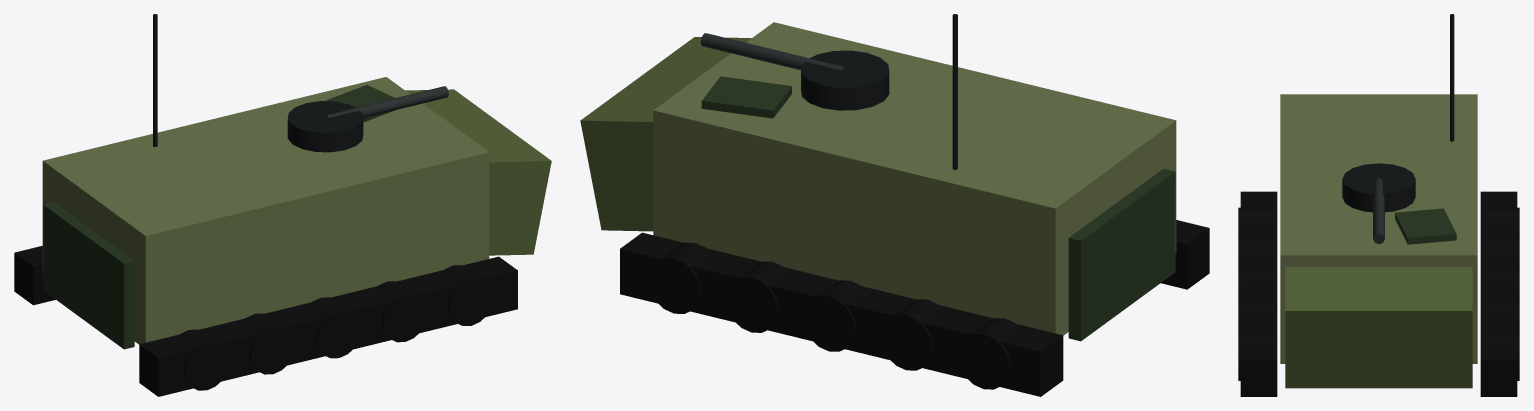
File: m113-apc.glb
3 views of the same model, side by side, from view 1: azimuth 30°, elevation 25°; view 2: azimuth 150°, elevation 25°; view 3: azimuth 270°, elevation 25° (orthographic). The views are drawn at different scales.
Visible parts, largest first — view 1: hull, trackLeft, rearRamp, frontSlope, commanderRing, roadWheelLeft2, roadWheelLeft1, roadWheelLeft3, roadWheelLeft4, roadWheelLeft5, trackRight, turretGun (+2 smaller); view 2: hull, trackRight, rearRamp, frontSlope, commanderRing, roadWheelRight2, roadWheelRight3, roadWheelRight4, roadWheelRight1, roadWheelRight5, hatchDriver, trackLeft (+2 smaller); view 3: hull, frontSlope, trackLeft, trackRight, commanderRing, hatchDriver, turretGun, antenna, roadWheelLeft5, roadWheelRight5, roadWheelLeft1, roadWheelRight1 (+6 smaller).
Part boxes in pixels (left/top/right/bottom): hull: left=42, top=77, right=489, bottom=344; trackLeft: left=139, top=256, right=517, bottom=396; rearRamp: left=43, top=202, right=134, bottom=349; frontSlope: left=405, top=89, right=551, bottom=255; commanderRing: left=287, top=101, right=363, bottom=152; roadWheelLeft2: left=243, top=313, right=295, bottom=374; roadWheelLeft1: left=177, top=329, right=229, bottom=390; roadWheelLeft3: left=309, top=297, right=361, bottom=358; roadWheelLeft4: left=375, top=281, right=427, bottom=342; roadWheelLeft5: left=441, top=265, right=493, bottom=325; trackRight: left=14, top=246, right=55, bottom=305; turretGun: left=325, top=86, right=448, bottom=117; hull: left=653, top=22, right=1176, bottom=335; trackRight: left=620, top=232, right=1063, bottom=396; rearRamp: left=1068, top=168, right=1175, bottom=341; frontSlope: left=580, top=37, right=751, bottom=231; commanderRing: left=801, top=50, right=889, bottom=110; roadWheelRight2: left=880, top=299, right=941, bottom=370; roadWheelRight3: left=802, top=280, right=863, bottom=351; roadWheelRight4: left=725, top=261, right=786, bottom=332; roadWheelRight1: left=957, top=318, right=1018, bottom=389; roadWheelRight5: left=648, top=242, right=709, bottom=313; hatchDriver: left=701, top=76, right=791, bottom=118; trackLeft: left=1161, top=220, right=1209, bottom=289; hull: left=1280, top=94, right=1477, bottom=363; frontSlope: left=1285, top=267, right=1472, bottom=388; trackLeft: left=1240, top=191, right=1277, bottom=396; trackRight: left=1480, top=191, right=1517, bottom=396; commanderRing: left=1342, top=163, right=1415, bottom=212; hatchDriver: left=1395, top=208, right=1456, bottom=244; turretGun: left=1373, top=178, right=1384, bottom=244; antenna: left=1450, top=14, right=1454, bottom=141; roadWheelLeft5: left=1238, top=331, right=1273, bottom=380; roadWheelRight5: left=1484, top=331, right=1519, bottom=380; roadWheelLeft1: left=1238, top=207, right=1273, bottom=238; roadWheelRight1: left=1484, top=207, right=1519, bottom=238.
Size of the model in its own units: 3.17 by 2.02 by 1.92.
